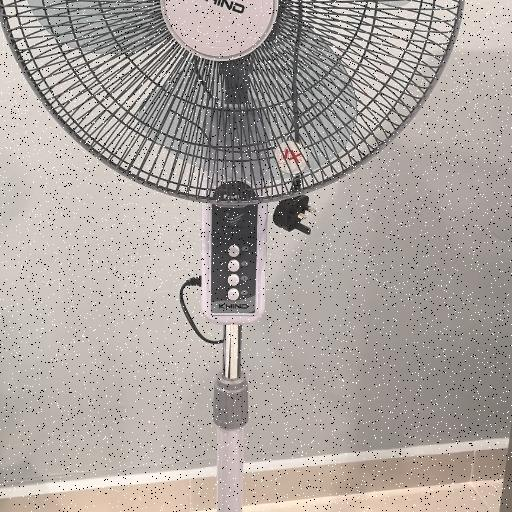Fan: (0, 0, 471, 206)
